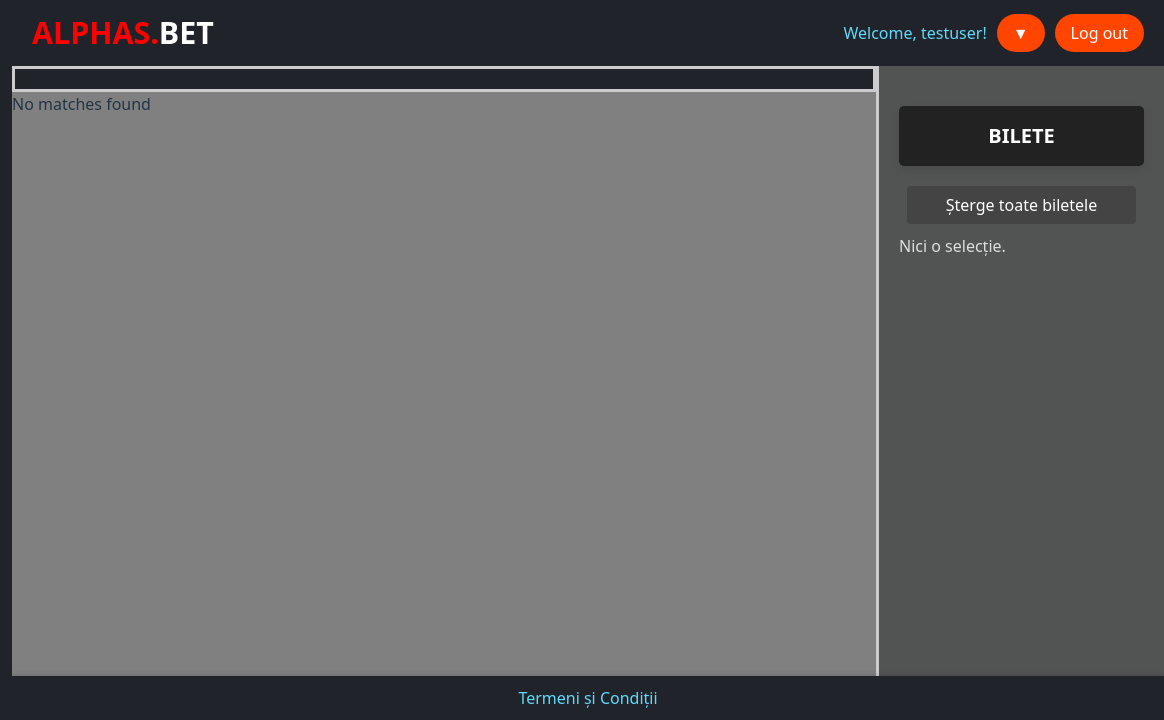
Test case: App Component › logs out the user
# Click the "Log out" button
Click the button "Log out".
click(1099, 33)  # box [1055,14,1144,52]
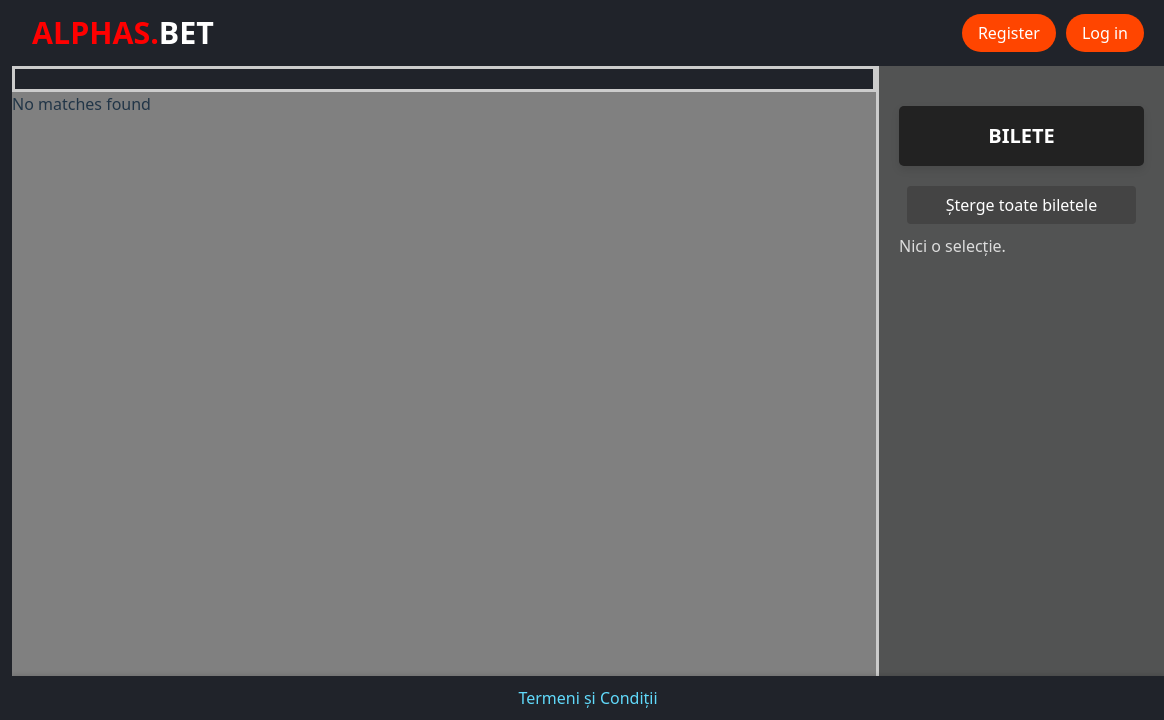
Check: the button "Log in" is shown, box [1066,14,1144,52]
Check: the button "Register" is shown, box [962,14,1056,52]
